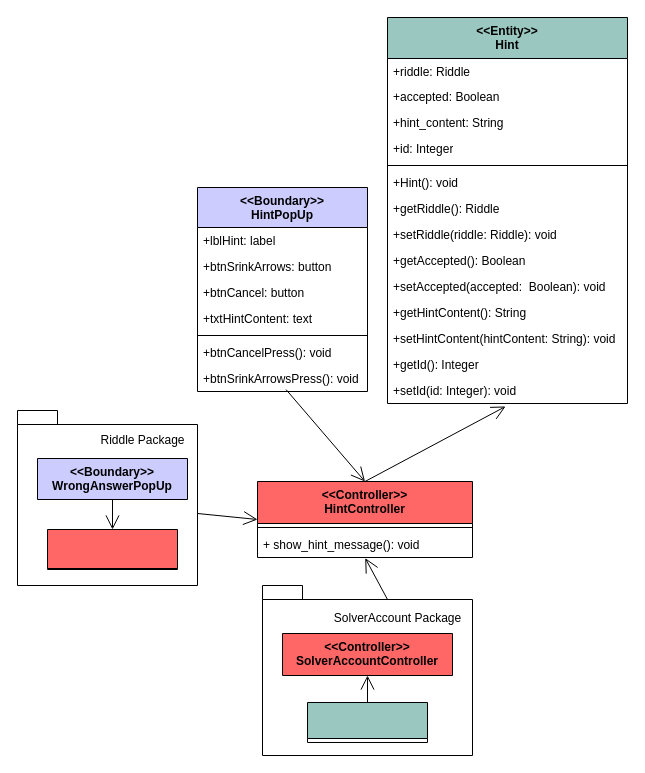
Image size: 645x773. Some labels were removed from this diagram. Each missing label, with the centre of its shape:
"<<Controller>> RiddleController" belongs at (x=112, y=549).
"<<Entity>> SolverAccount" belongs at (x=367, y=722).
